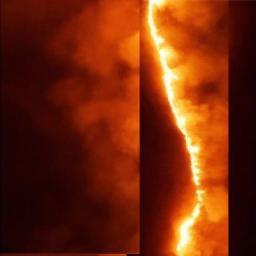Heavy smoke: (0, 0, 141, 252)
Large fire: (143, 0, 228, 255)
